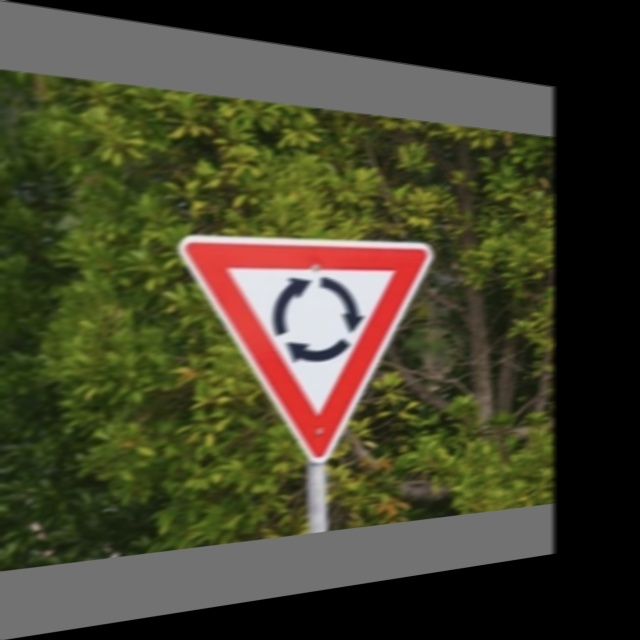Round_About: (183, 222, 430, 470)
